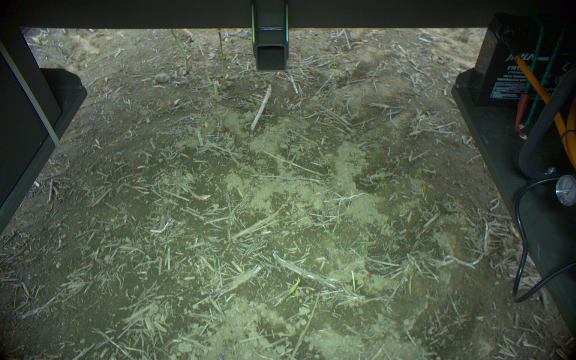aspa: (166, 28, 194, 75), (214, 26, 228, 77)
